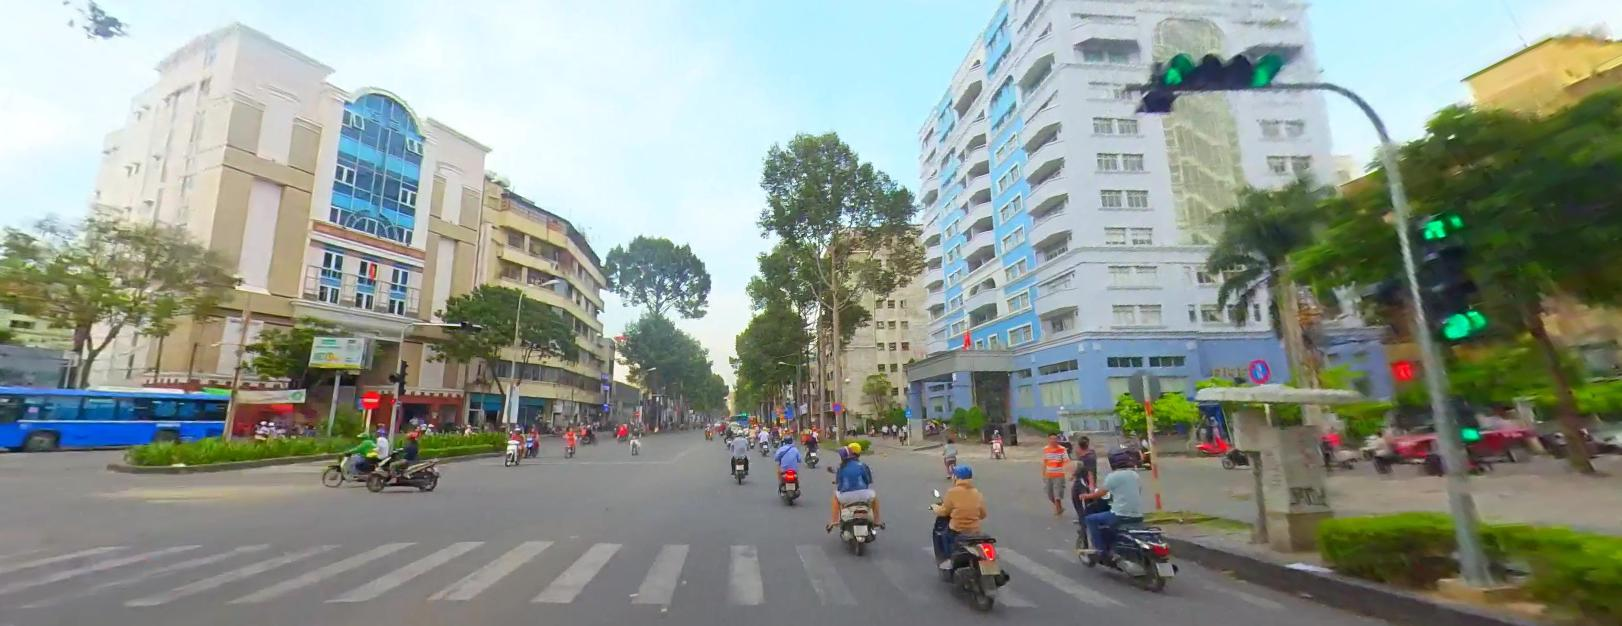Cam dung va do: (1248, 358, 1270, 381), (832, 403, 840, 411)
Cam nguoc chieu: (361, 389, 381, 408)
